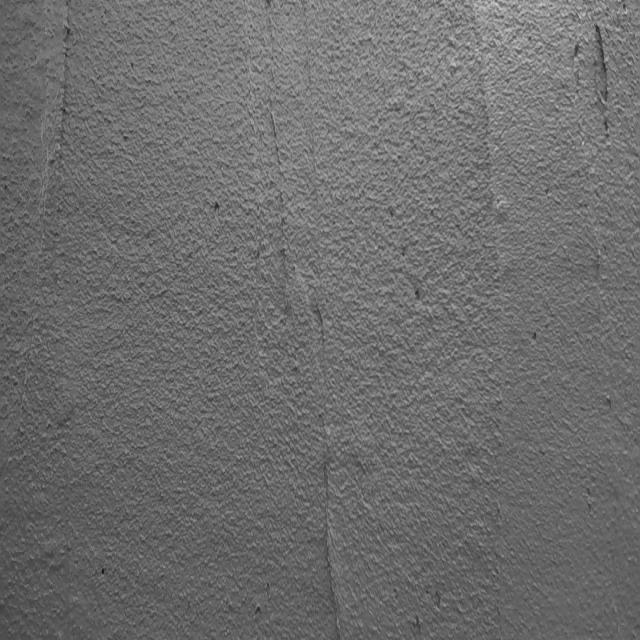trowels marks: (44, 2, 76, 264), (324, 432, 344, 640)
